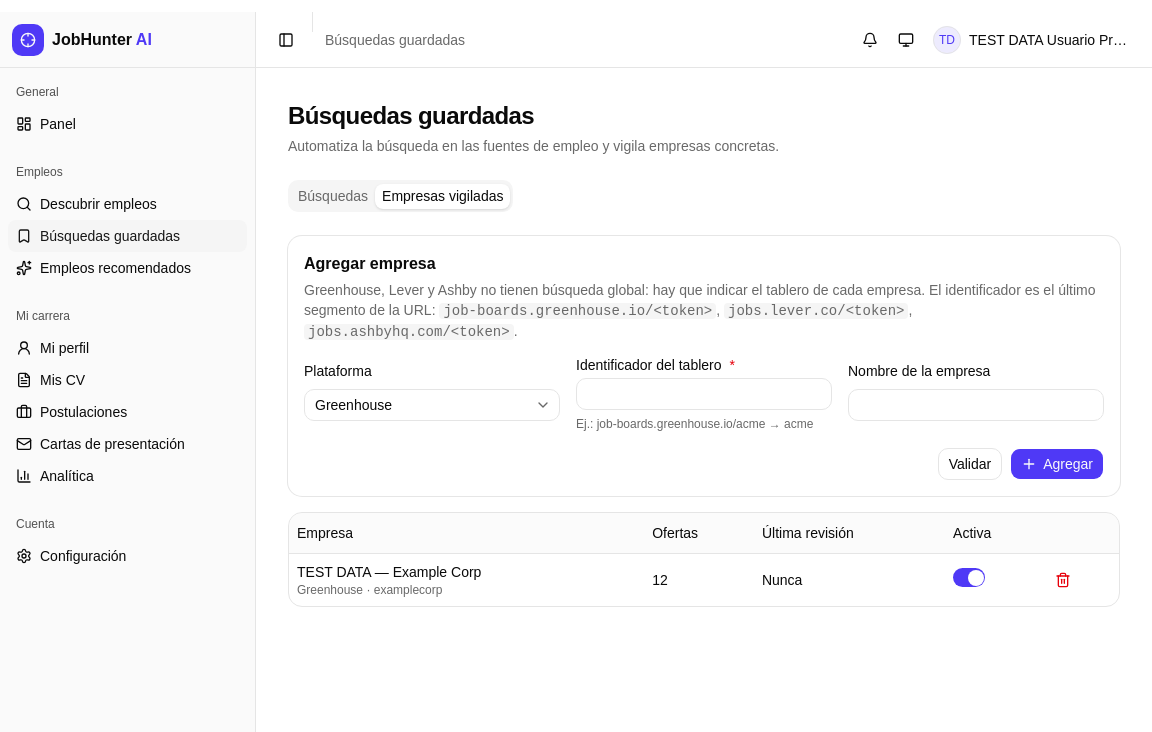
Test: Empresas vigiladas › validates the board token locally and against the server
Expected: the text "TEST DATA — Example Corp" is shown, [297, 564, 481, 580]
In the field labelled "Identificador del tablero *": (704, 394) [576, 378, 832, 410], type "https://jobs.lever.co/acme"
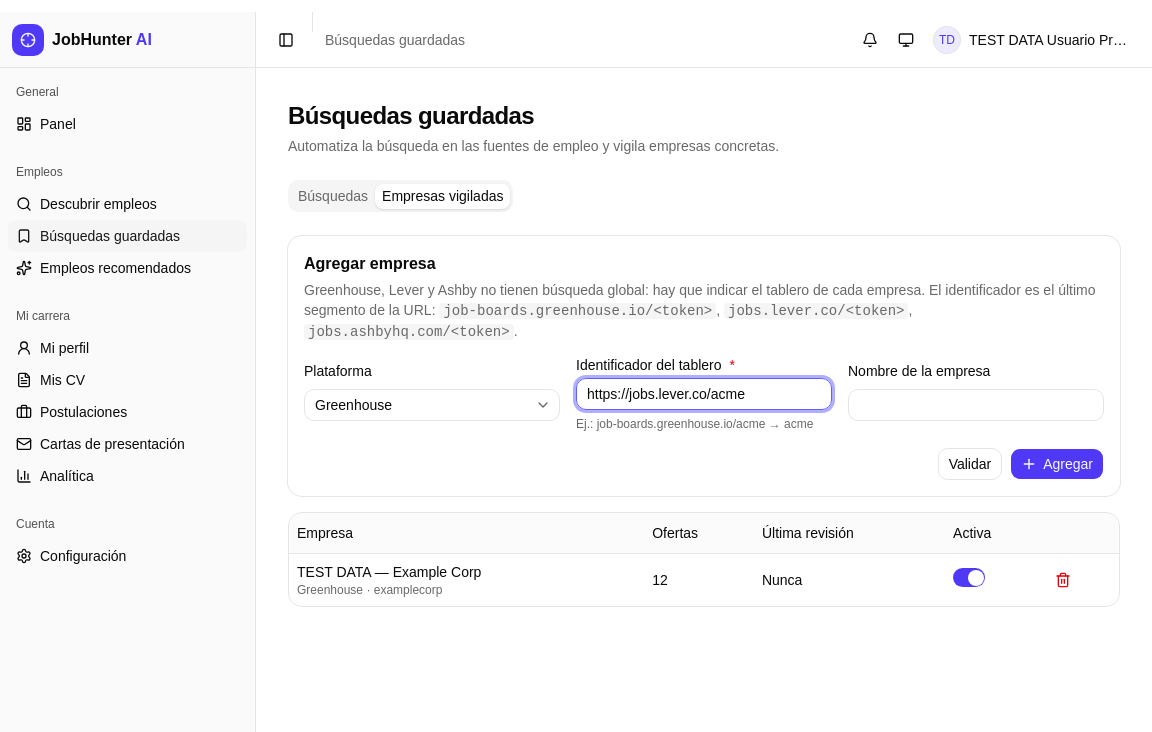
Click the button "Validar": click(970, 464) [938, 448, 1002, 480]
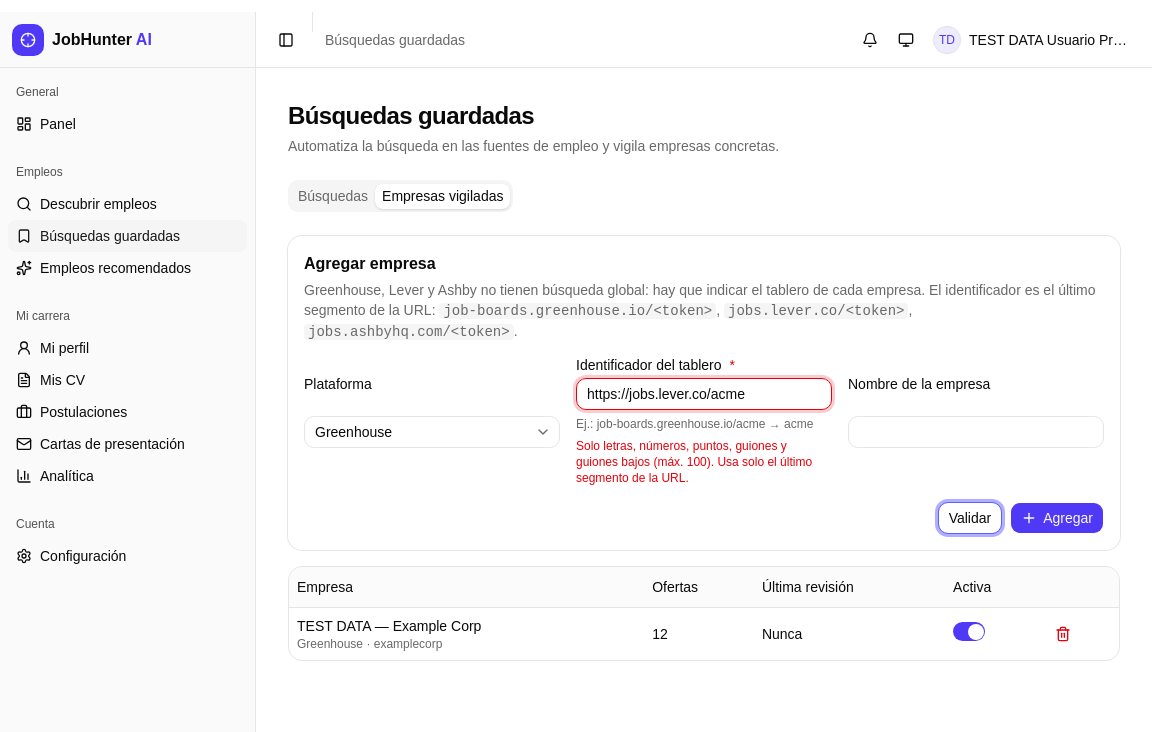
Now the text "Usa solo el último segmento de la URL" is shown, box [576, 439, 812, 485]
Replace the text in the field labelled "Identificador del tablero *" with "acme": (704, 394) [576, 378, 832, 410]
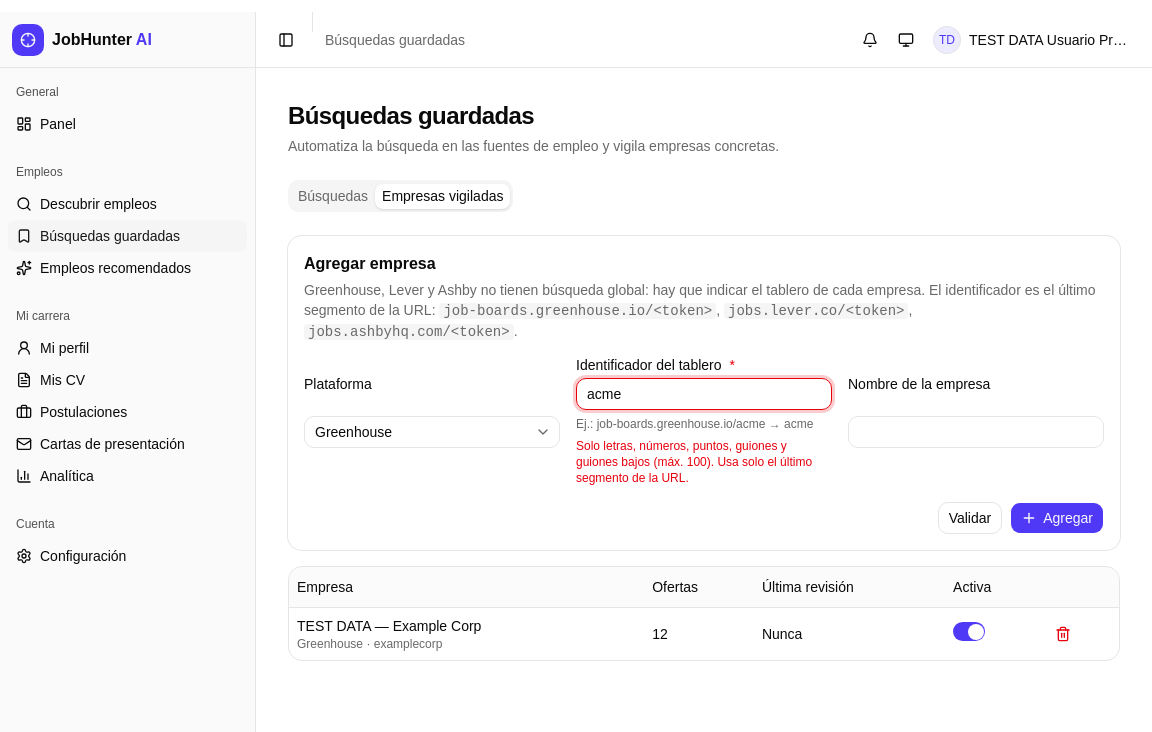
Click the button "Validar": click(970, 518) [938, 502, 1002, 534]
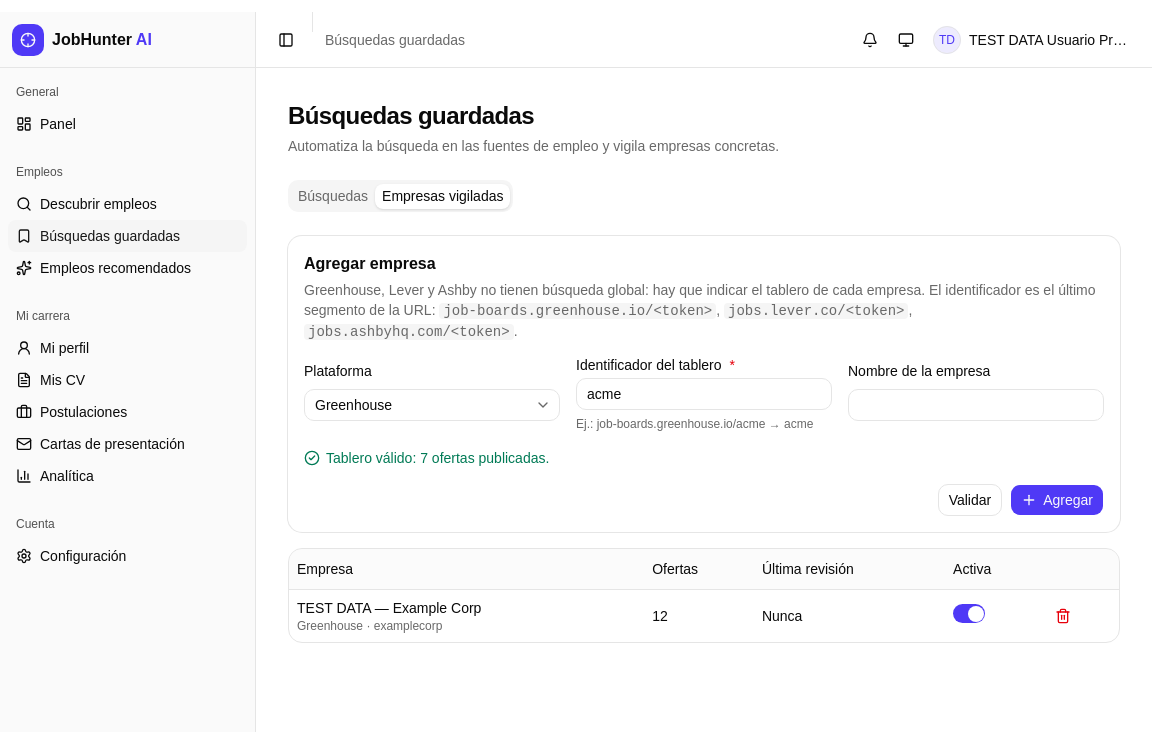
Now the text "Tablero válido: 7 ofertas publicadas." is shown, box [304, 450, 549, 466]
